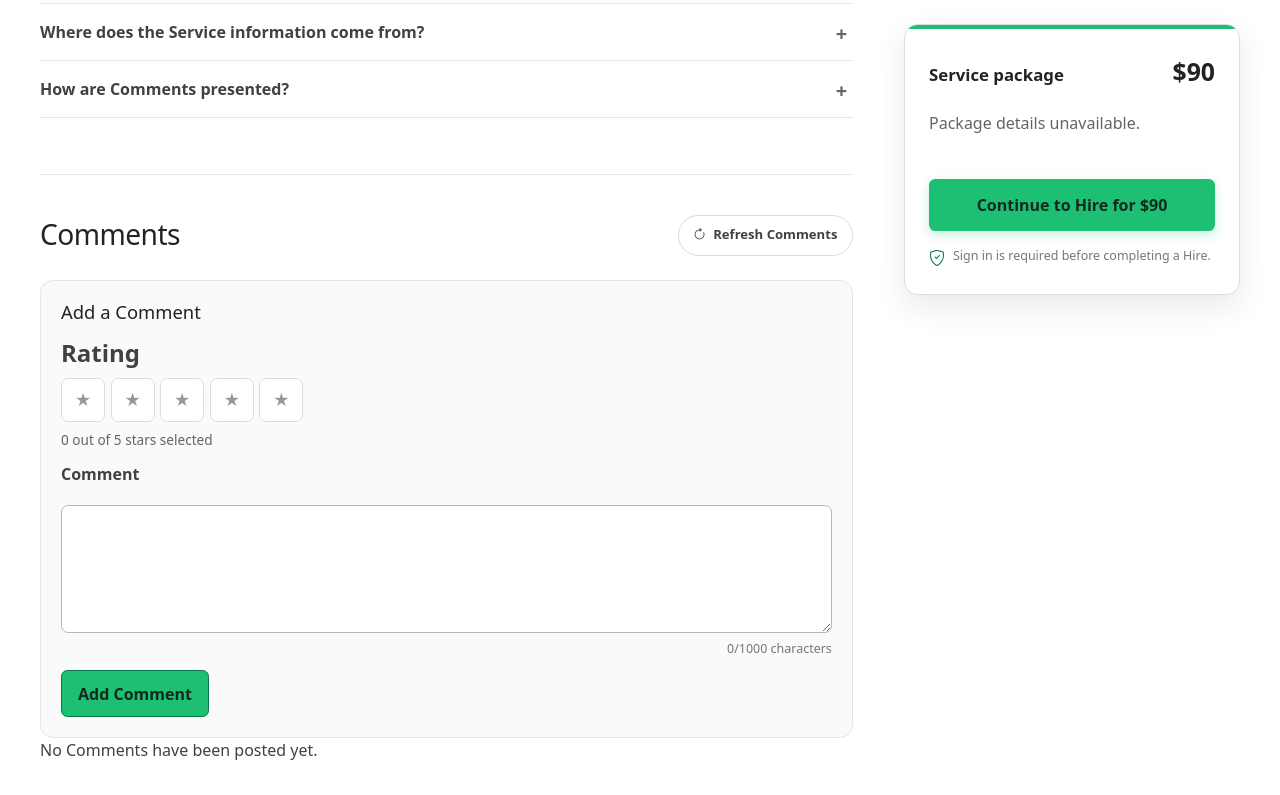
Test: routed Service Detail › checks Comments again without resubmitting when an accepted Comment is not yet visible
This screenshot has width=1280, height=795.
(page scrolled)
Click the radio button named "5 stars".
click(281, 400)  # box [259,378,303,422]
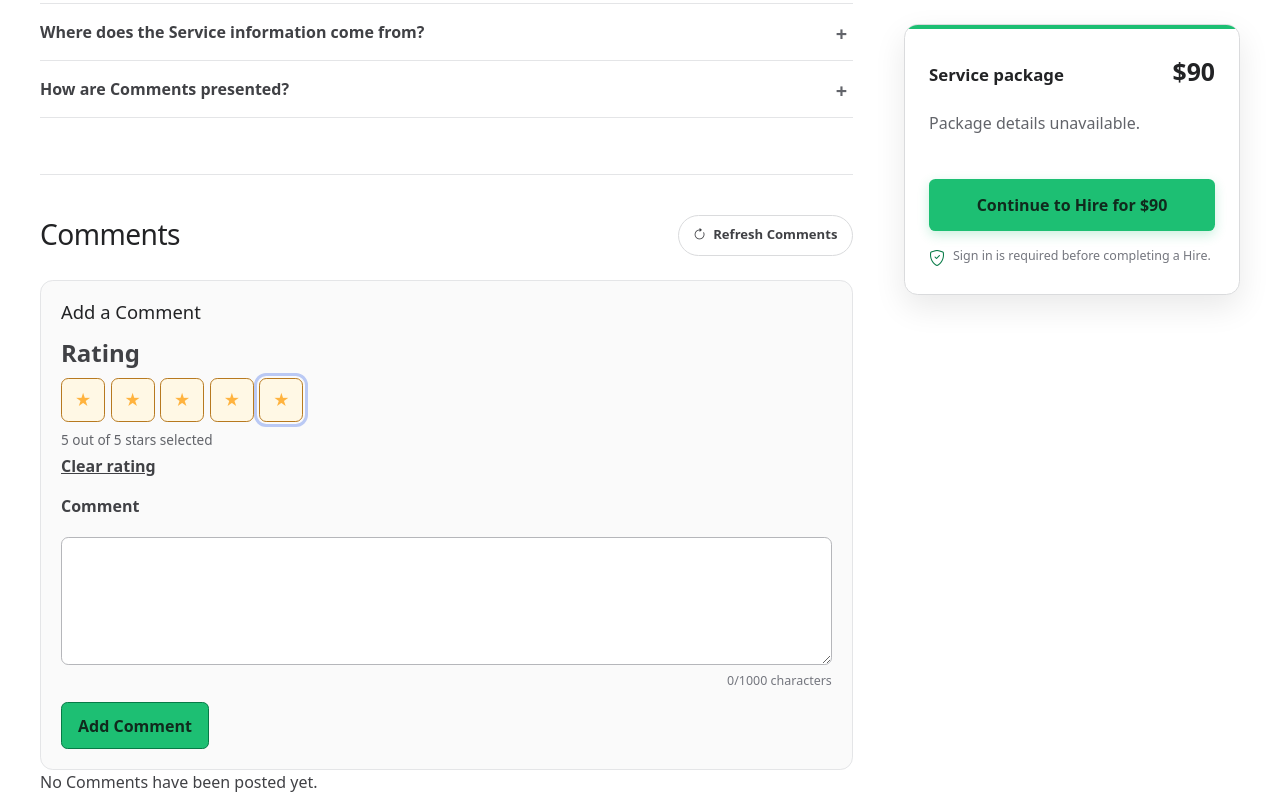
Type "Visible after another check." into the text box labelled "Comment".
click(446, 601); type("Visible after another check.")  # box [61,537,832,665]
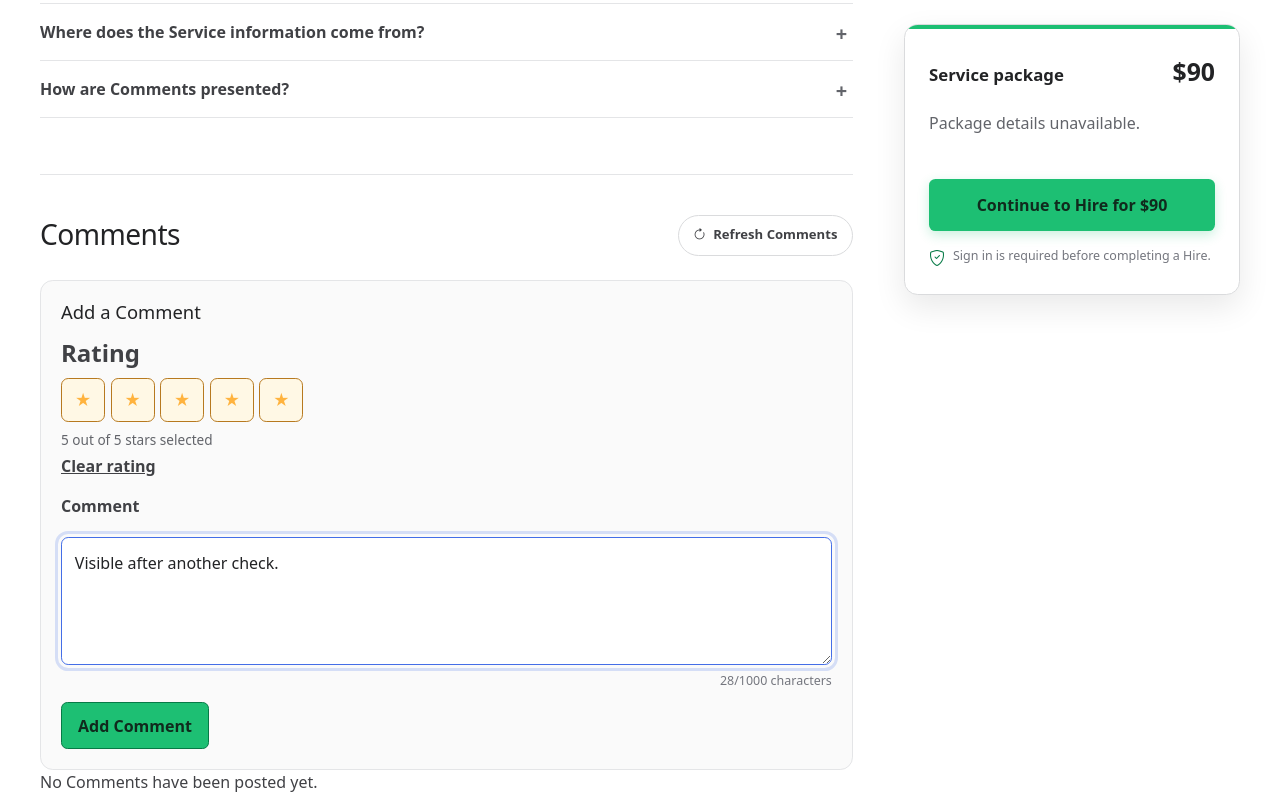
Click the button "Add Comment".
click(135, 726)  # box [61,702,209,749]
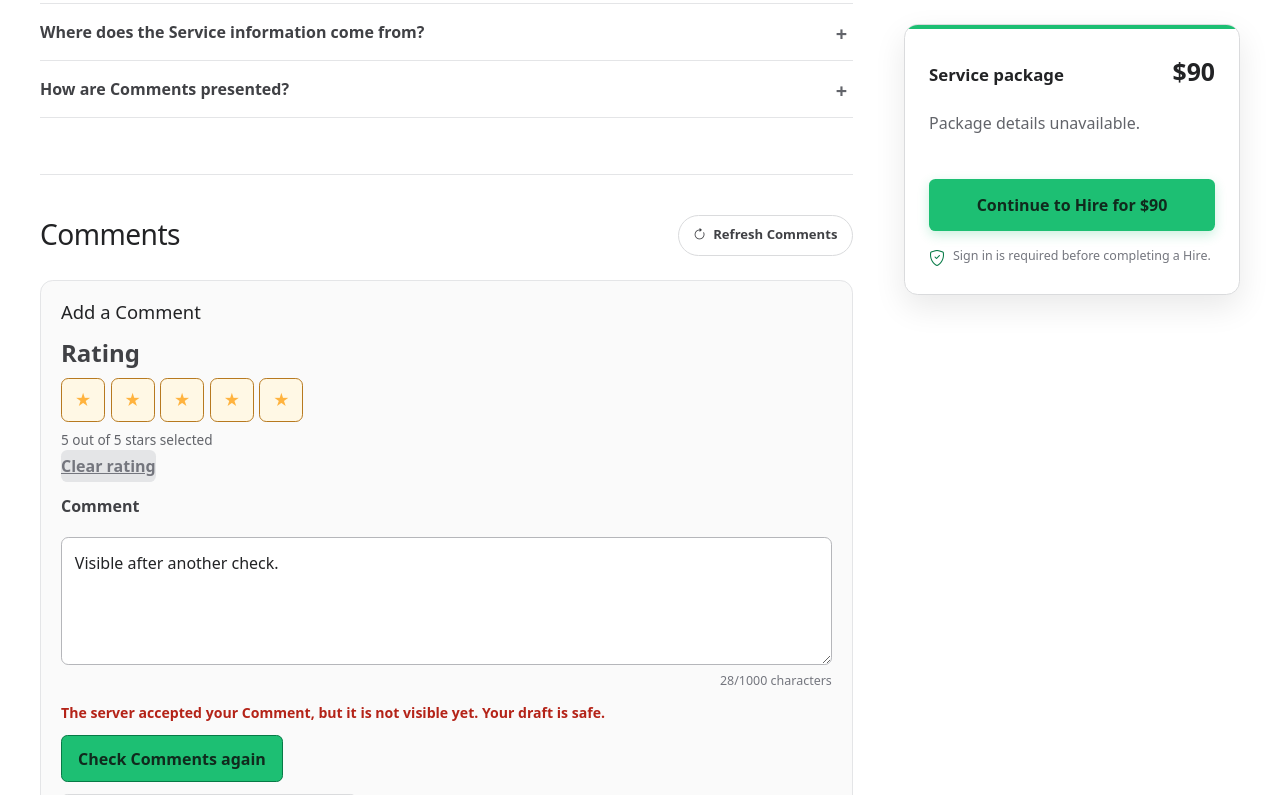
Result: the message reads "The server accepted your Comment, but it is not visible yet. Your draft is safe." at [61,703,605,722]
Click the button "Check Comments again".
click(172, 759)  # box [61,735,283,782]
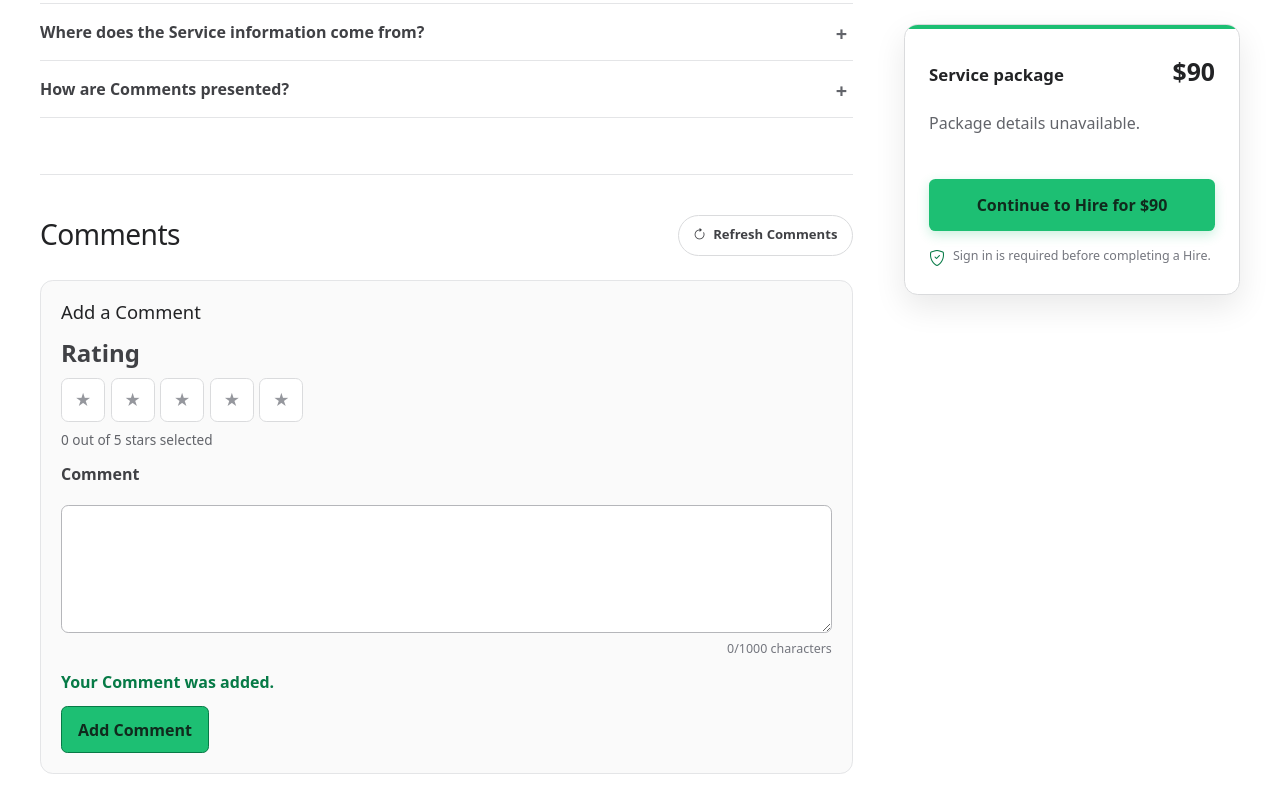
Result: the text "Your Comment was added." is shown at [61,671,274,693]
Result: the text box labelled "Comment" is empty at [61,505,832,633]
